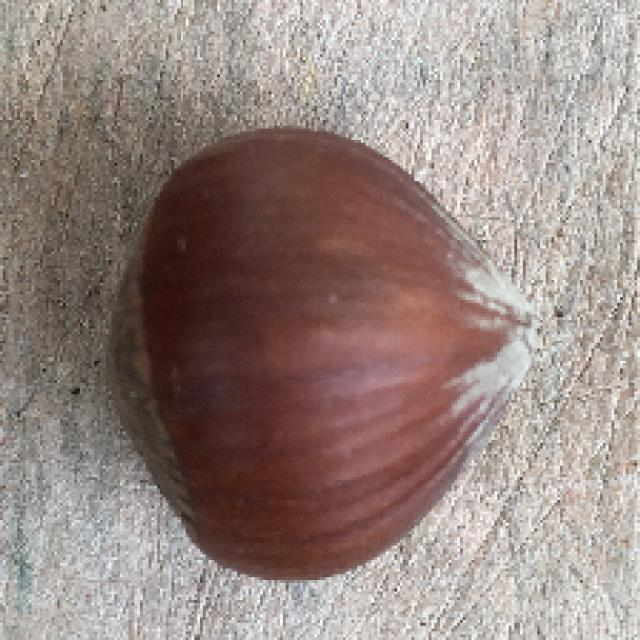qualityHazelnut: (102, 113, 578, 579)
